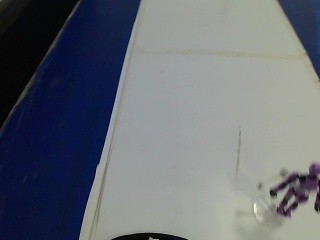pedestrian: (265, 158, 318, 234)
